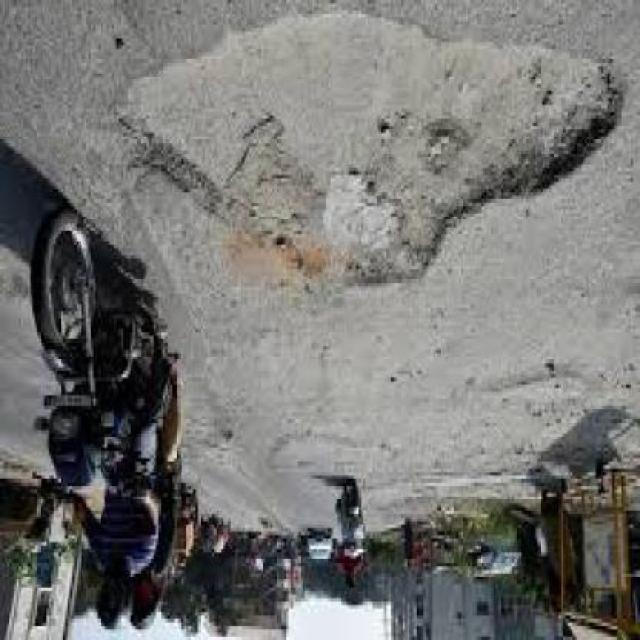pothole: (111, 4, 624, 301)
